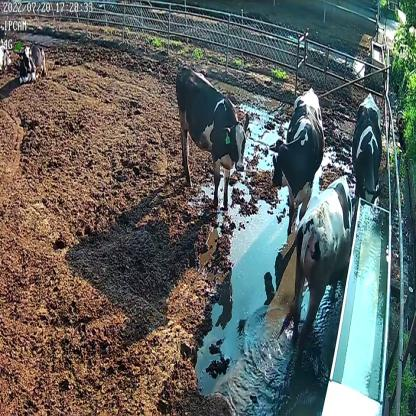cow: (175, 59, 250, 210), (293, 172, 354, 348), (272, 84, 324, 236), (351, 90, 384, 209), (18, 40, 46, 83)
